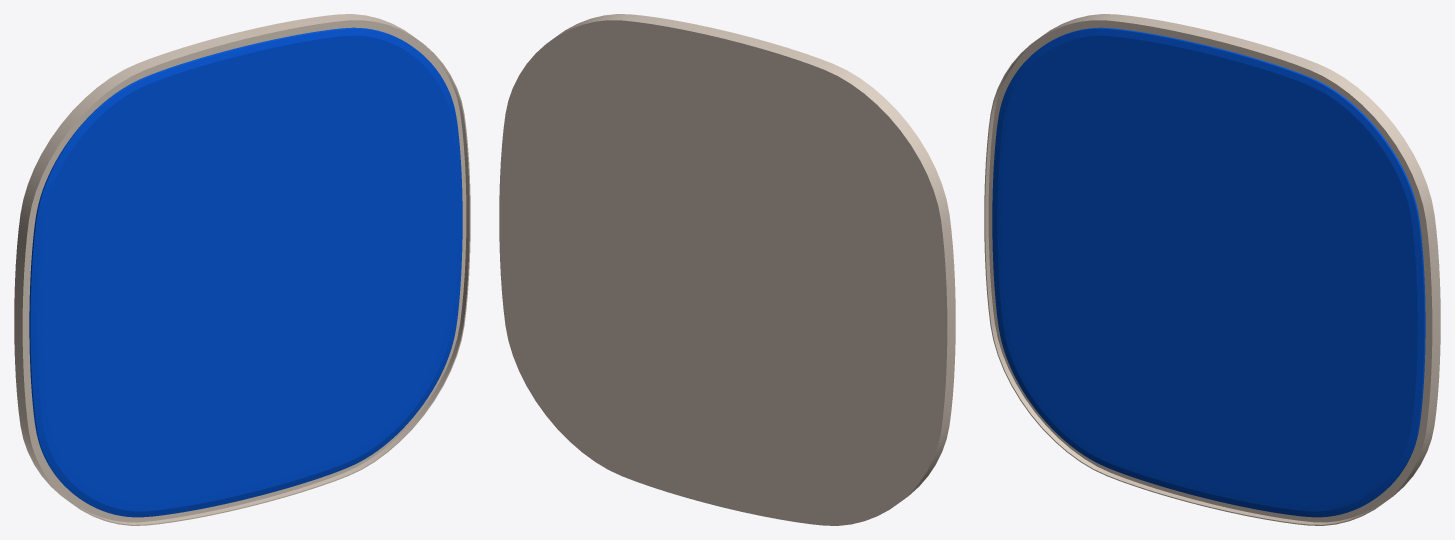
Rendered from Square-M.glb.
The picture shows the model from 3 angles, left to right: view 1: azimuth 30°, elevation 25°; view 2: azimuth 150°, elevation 25°; view 3: azimuth 330°, elevation 25°; orthographic projection.
Visible parts, largest first — view 1: Miror, Square; view 2: Square; view 3: Miror, Square.
Boxes of the visible parts, x1,y1,x2,y2 form: Miror: (29,27,462,517); Square: (14,14,470,525); Square: (499,14,955,525); Miror: (992,27,1425,517); Square: (984,14,1440,525).
Size of the model in its own units: 0.92 by 0.92 by 0.0325.
